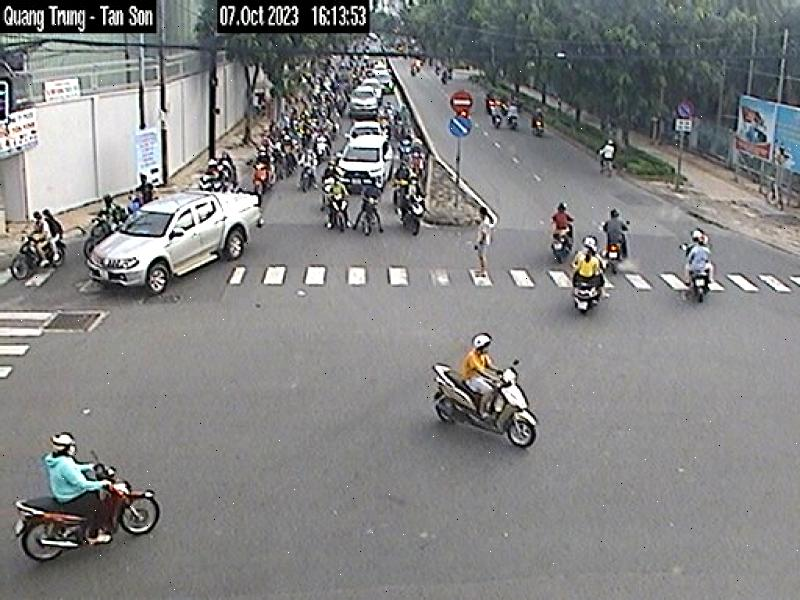car: (86, 190, 260, 296), (340, 134, 392, 192)
motorcycle: (18, 463, 161, 562), (434, 358, 540, 450), (9, 236, 66, 279), (31, 210, 52, 268)
